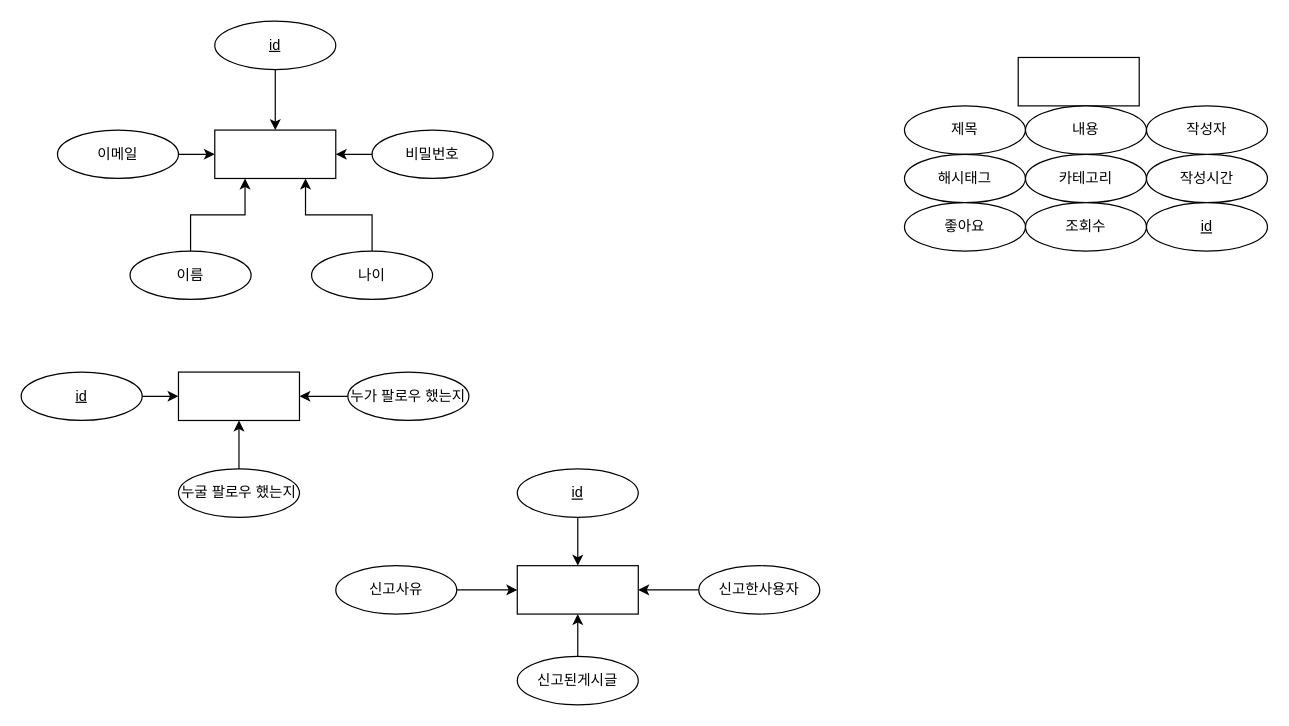
Some shapes in this 1289 by 726 pixel diagram are drawn without their labels. The shapes that lost their labels are listed below. From the top down, each one's centre as x and y in pixels, then its label:
[1078,81]: 게시글(posts)
[275,153]: 사용자(users)
[238,395]: 팔로우(follows)
[577,589]: 신고(reports)
